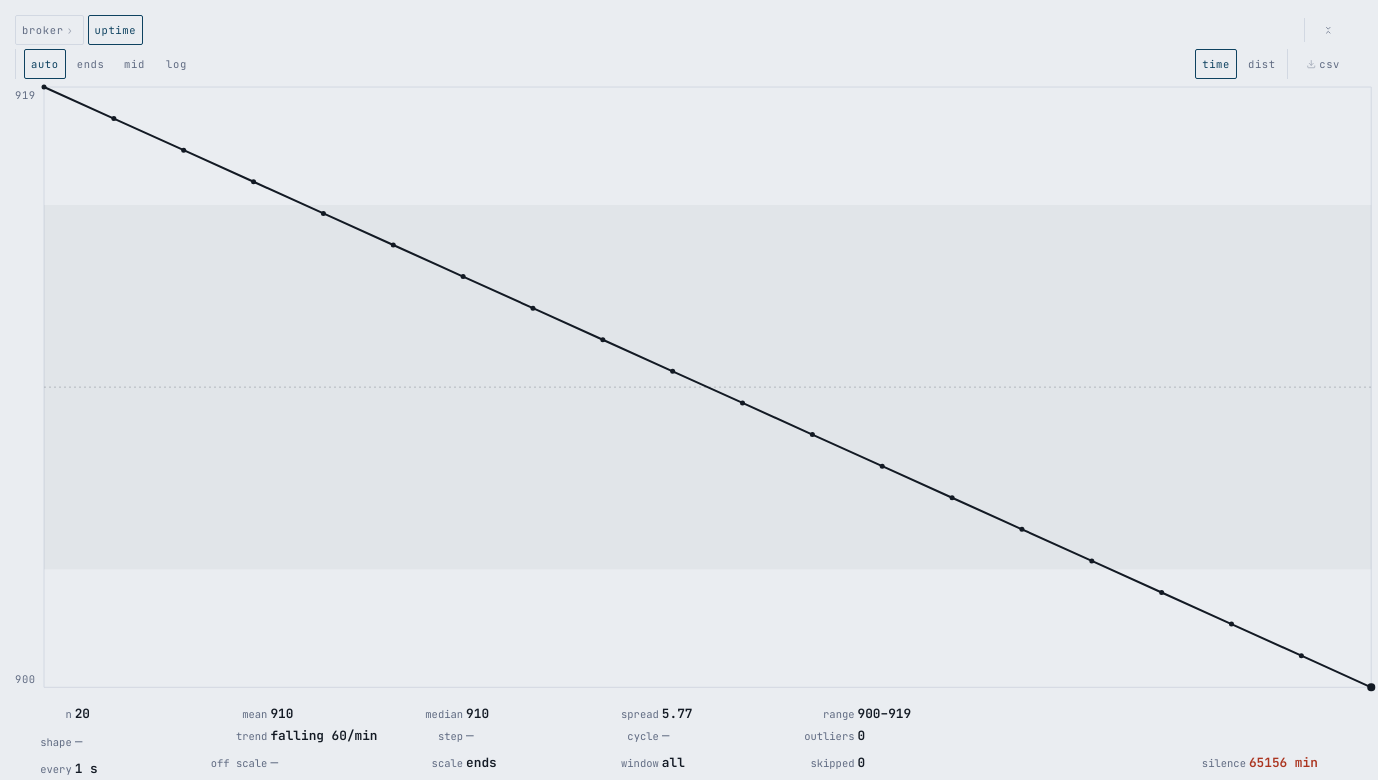
Scenario: a body with its numbers nested › opens a group onto what is under it, and comes back out again
Click the button with aria-label "Open broker".
click(49, 30)  # box [15,15,84,45]
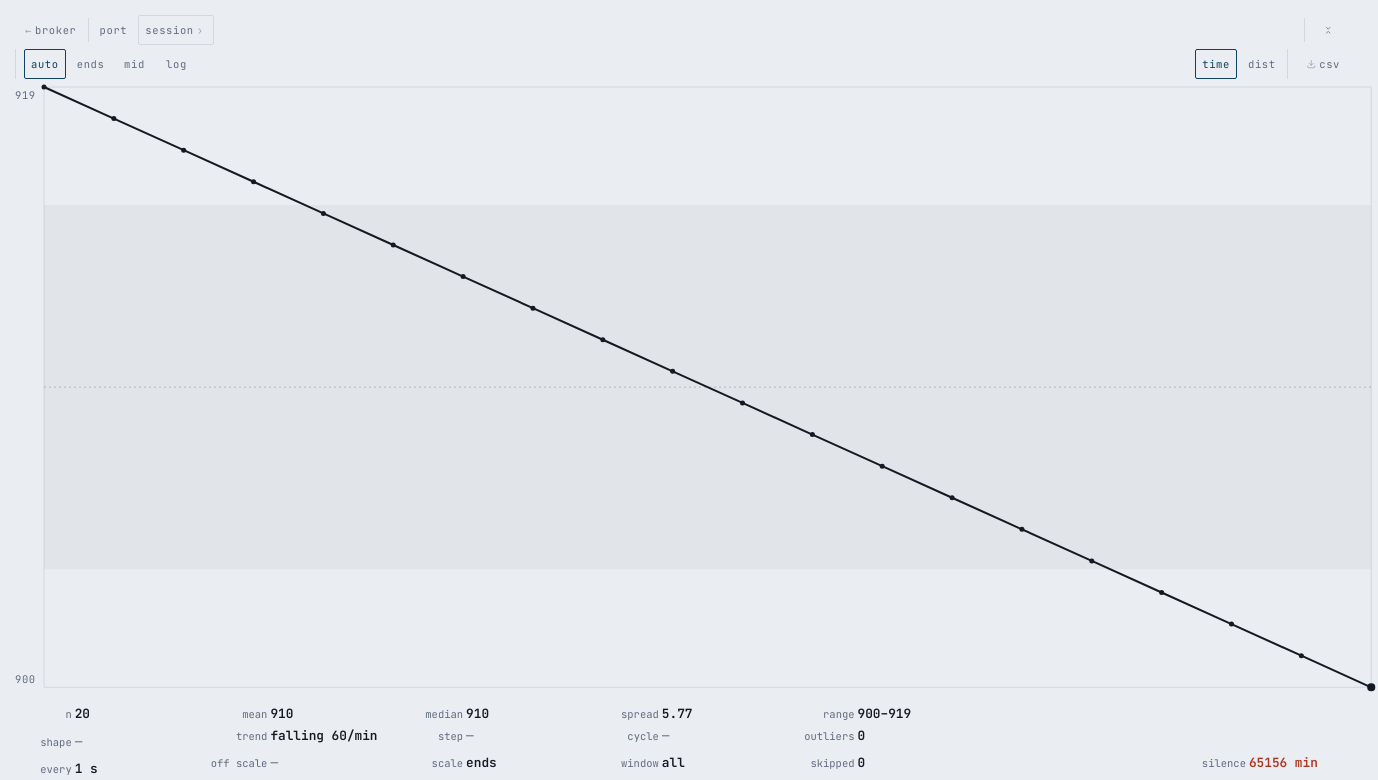
Expected: the button with aria-label "Chart broker.port" is shown, [92,15,134,45]
Expected: the button with aria-label "Open broker.session" is shown, [138,15,214,45]
Click the button with aria-label "Back out of broker".
click(49, 30)  # box [15,15,84,45]
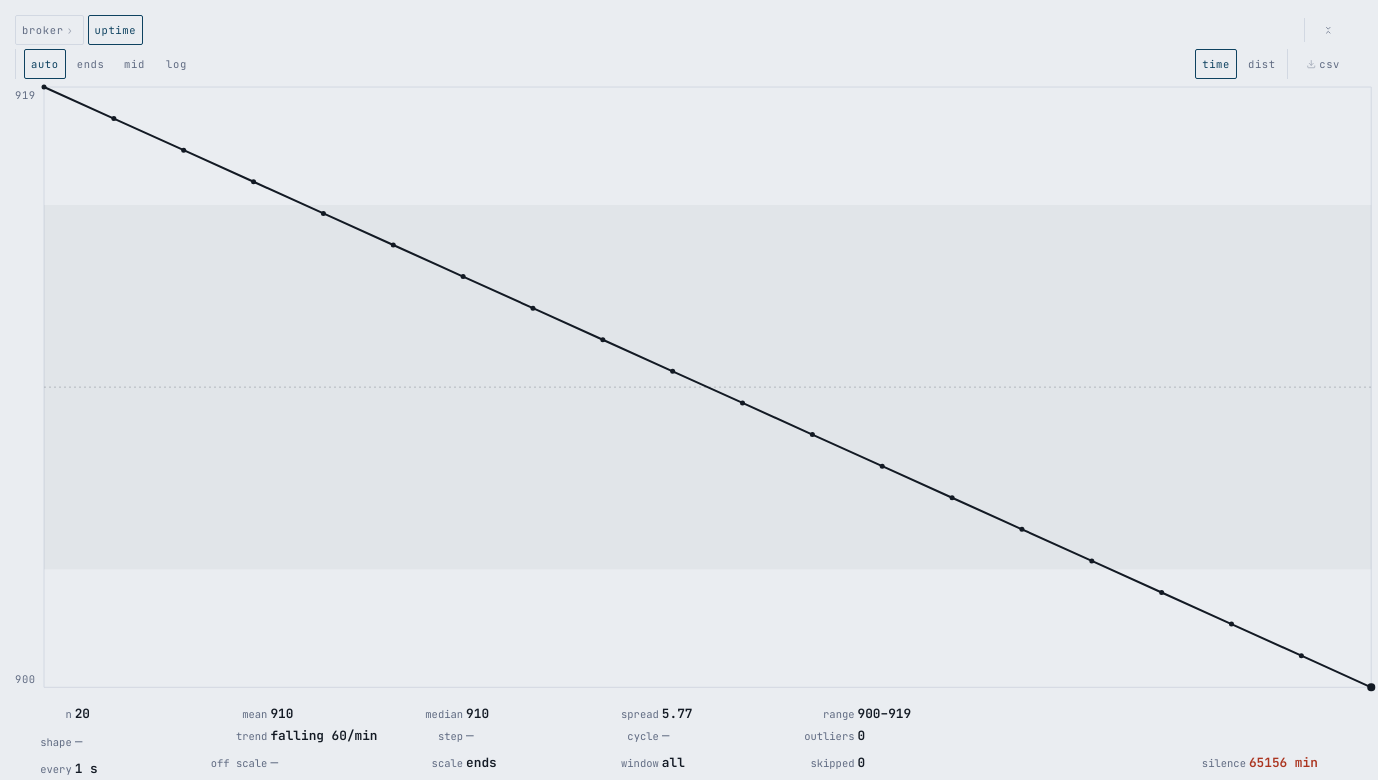
Expected: the button with aria-label "Chart uptime" is shown, [88,15,143,45]
